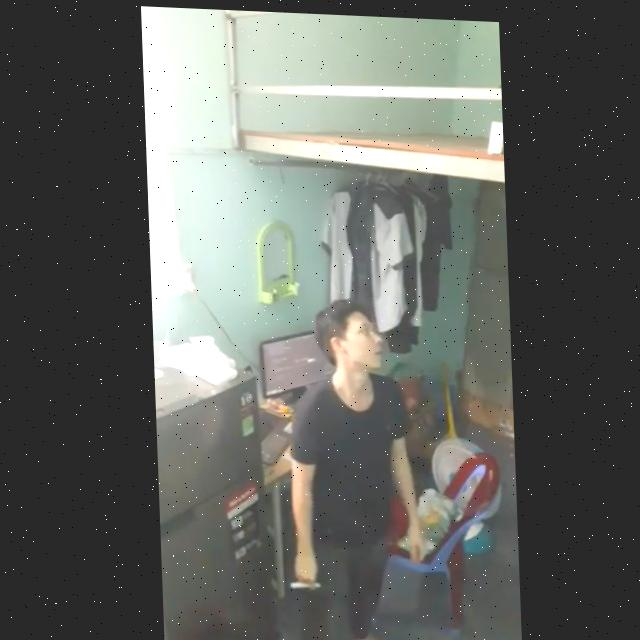cigarette: (285, 577, 316, 586)
